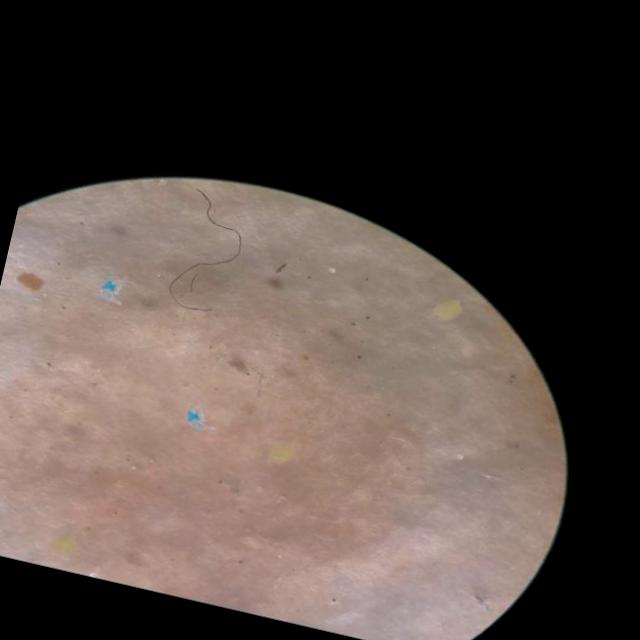fiber: (169, 189, 242, 310), (186, 408, 205, 428), (101, 279, 117, 298)
film: (104, 278, 121, 298)
fragment: (433, 300, 461, 320), (17, 271, 44, 291), (269, 444, 295, 463), (50, 536, 76, 555)
pellet: (330, 267, 336, 272), (456, 455, 463, 459)
